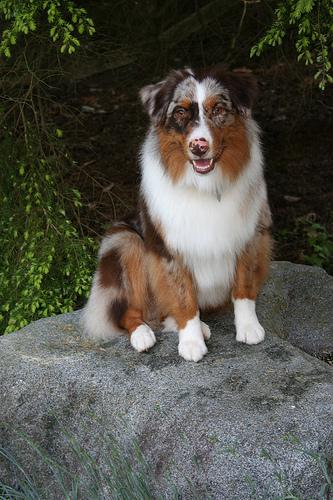dog-shiba_inu: (137, 68, 255, 178)
